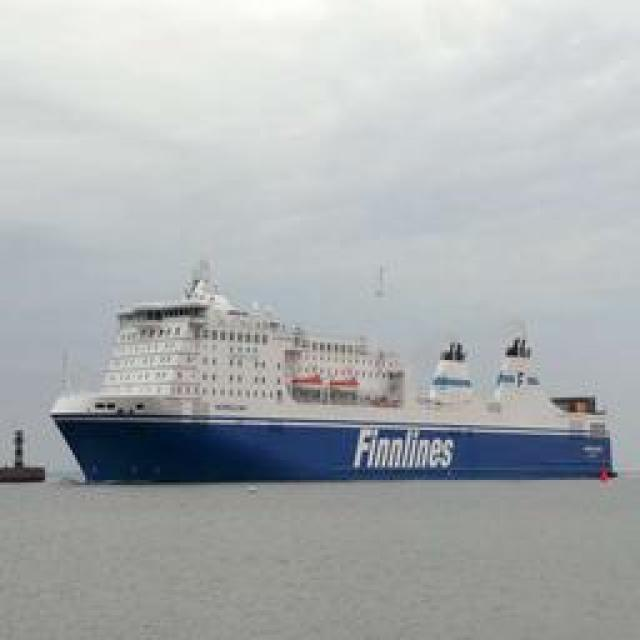ship2: (48, 260, 618, 487)
